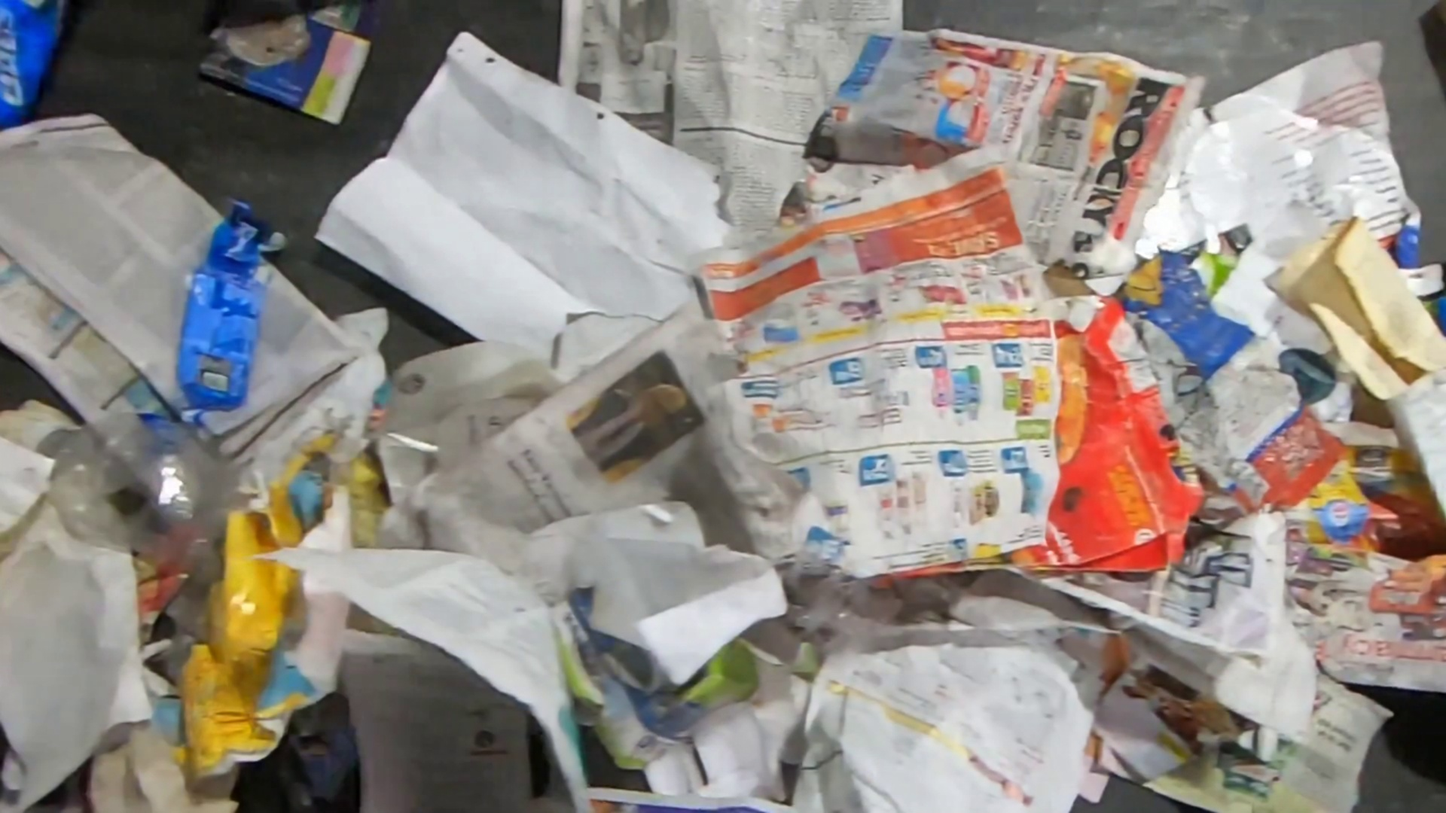cardboard: (856, 294, 1206, 592), (150, 430, 353, 789), (1113, 239, 1353, 515), (547, 577, 833, 773)
plastic: (37, 196, 289, 685), (0, 0, 69, 128)
